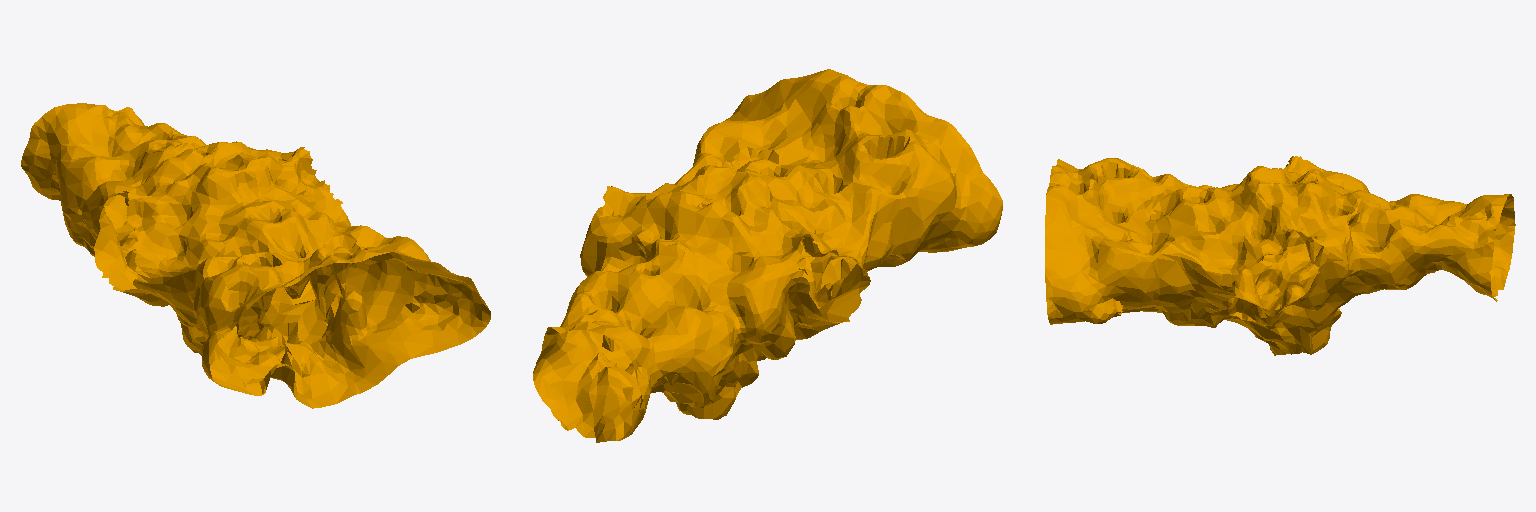
URDF robot description (obstacle):
<?xml version="1.0"?>
<robot name="obstacle">
  <link name="base_link">
    <visual>
      <origin xyz="0 0 0"/>
      <geometry>
        <mesh filename="package://hpp-rbprm-corba/meshes/cave_simplified.stl"/>
      </geometry>
    </visual>
    <collision>
      <origin xyz="0 0 0"/>
      <geometry>
        <mesh filename="package://hpp-rbprm-corba/meshes/cave_simplified.stl"/>
      </geometry>
    </collision>
  </link>
</robot>

--- Render facts (derived) ---
Views: 3 orthographic renders of the robot side by side, from view 1: azimuth 30°, elevation 25°; view 2: azimuth 150°, elevation 25°; view 3: azimuth 270°, elevation 25°.
Robot: obstacle — 1 links, 0 joints (none); root link base_link; default pose: all joints at 0.
Visible links, largest first — view 1: base_link; view 2: base_link; view 3: base_link.
Boxes of the visible links, box(x1,y1,x2,y2) form: base_link: box(21, 103, 490, 408); base_link: box(533, 69, 1002, 442); base_link: box(1045, 156, 1515, 355).
Size in the robot's own frame: 14.89 by 25.82 by 10.83 metres.
1 mesh visuals loaded from 1 distinct referenced files (1 binary STL).